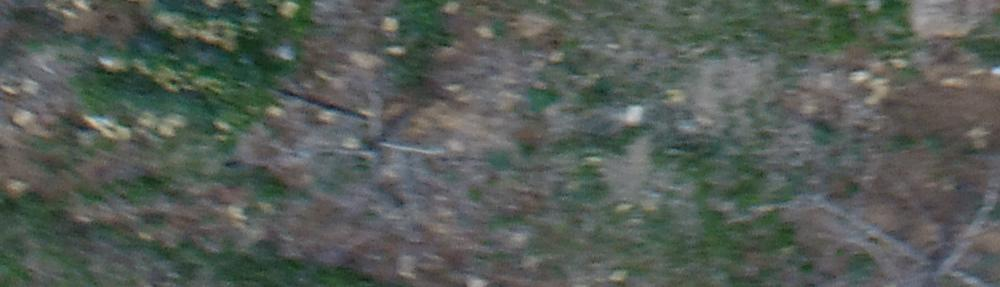apple: (270, 65, 452, 200)
